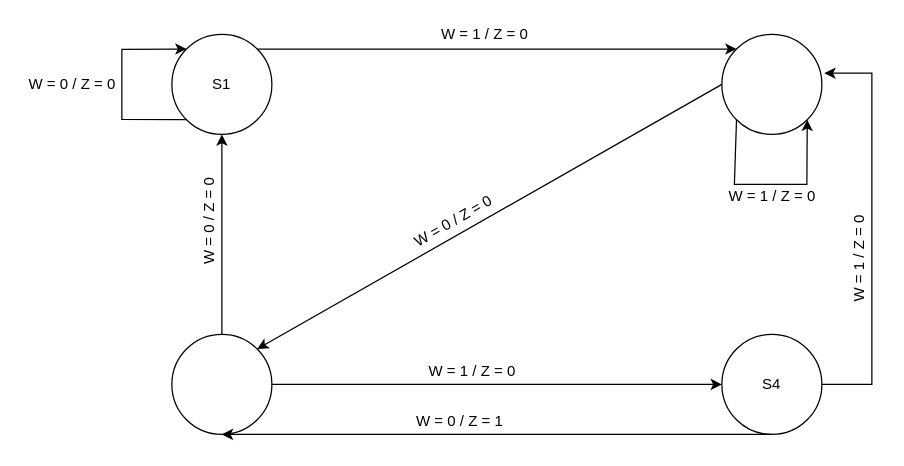
Image size: 904x466. Some labels were removed from this diagram. Here are the shapes that lost their labels. From the top down, the centre of each, then its label:
point 771,83: S2
point 221,383: S3
